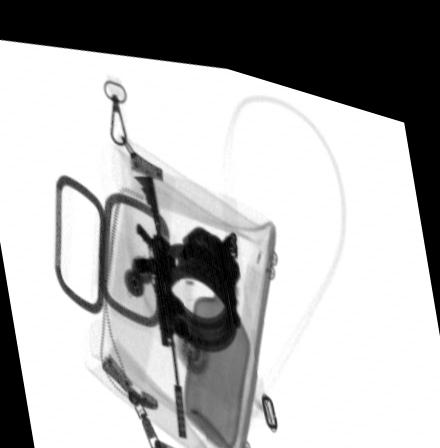Gun: (131, 162, 188, 430)
HandCuffs: (154, 212, 242, 342)
